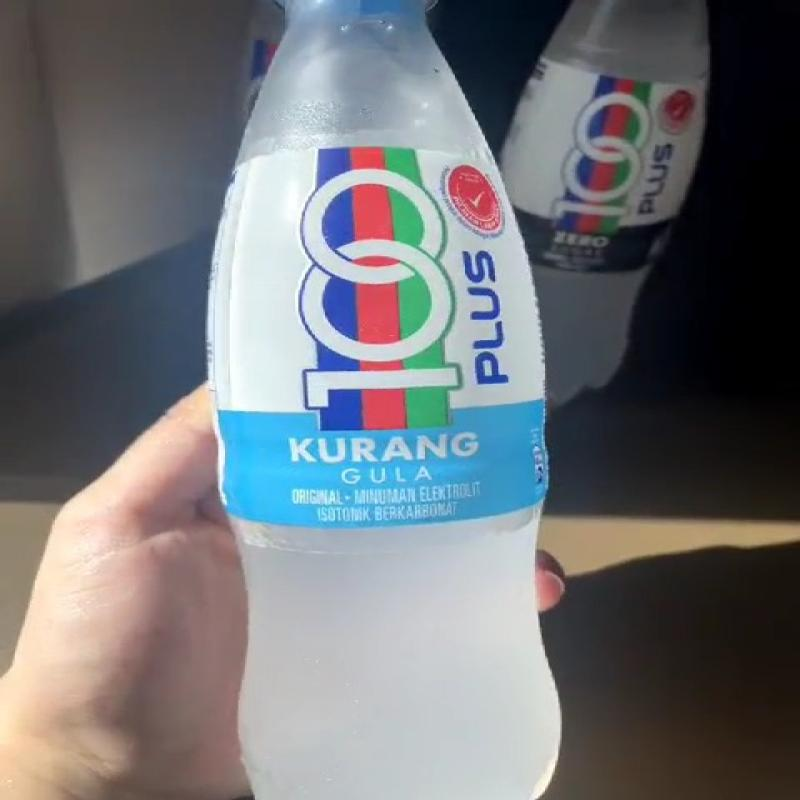botella: (211, 0, 565, 800), (510, 0, 708, 394)
